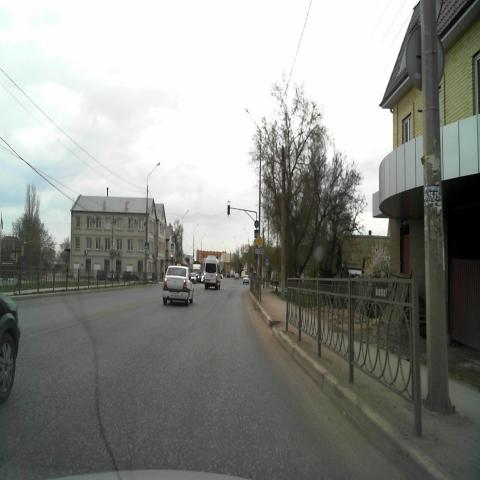2_1: (255, 233, 263, 246)
4_1_5: (254, 219, 259, 228)
5_19_1: (144, 242, 149, 250)
6_16: (254, 247, 264, 254)
